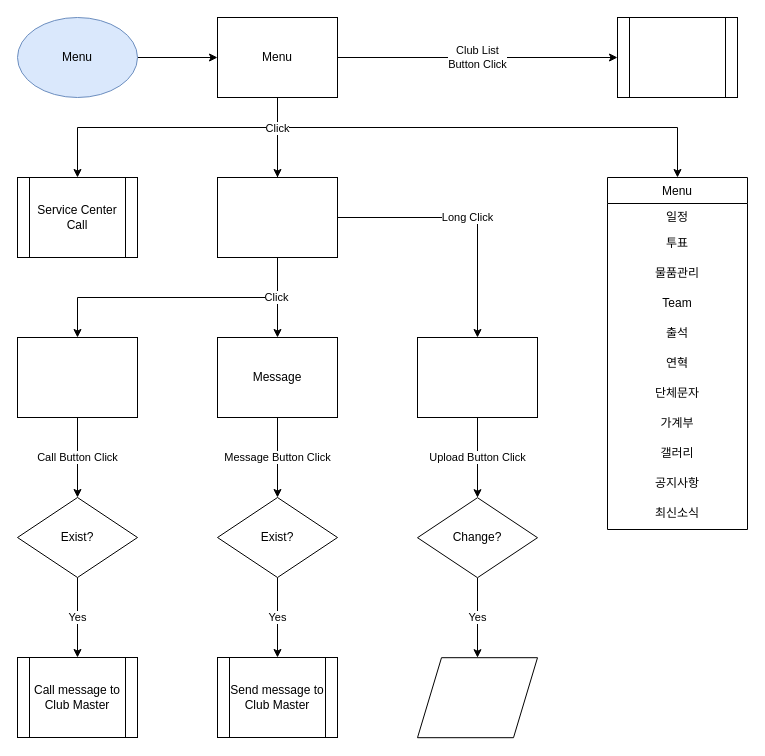
The diagram is 765 pixels wide and 756 high, and some of its shapes have lost their labels. The centre of each missing label's shape, as x and y in pixels:
Call: the point at 77,377
Change Privacy: the point at 477,377
Club List: the point at 677,57
Save: the point at 477,697
Temp: the point at 277,217
